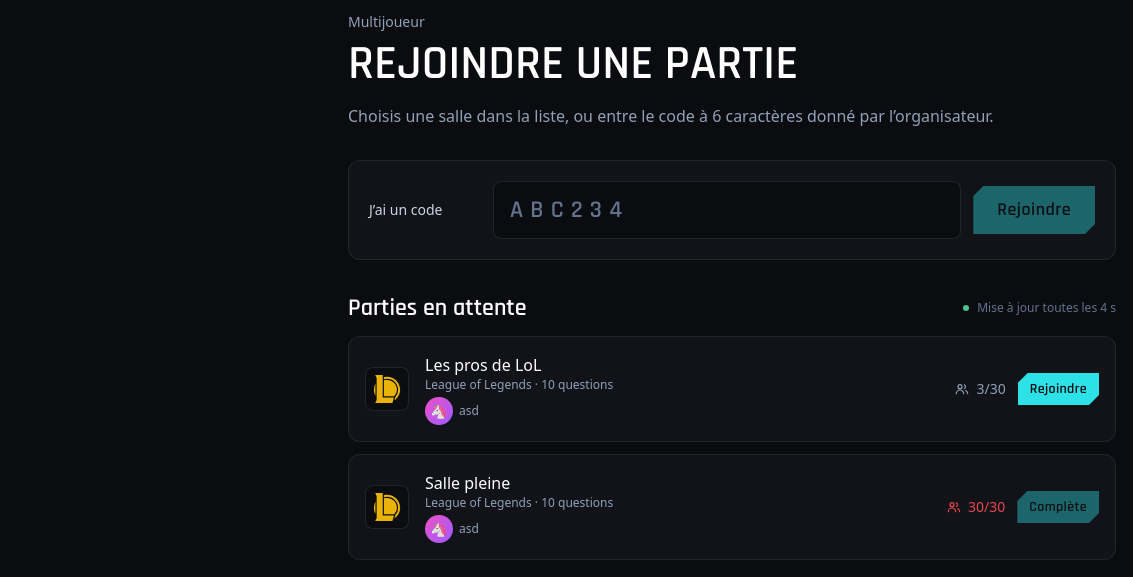
Test: liste des parties en attente › affiche les salles et rejoint celle choisie
Check: the text "Les pros de LoL" is shown, box [425, 354, 541, 376]
Check: the button "Complète" is disabled, box [1017, 491, 1099, 523]
Click the button "Rejoindre" in the row of "Les pros de LoL". click: (1058, 389)
box: [1018, 373, 1099, 405]
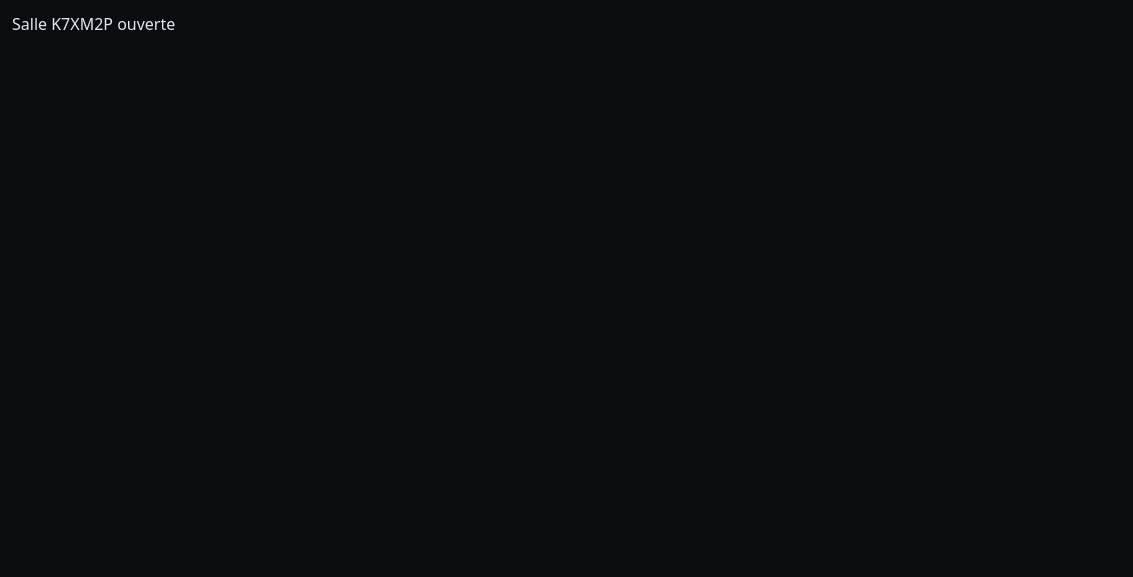
Check: the text "Salle K7XM2P ouverte" is shown, box [12, 13, 175, 35]
